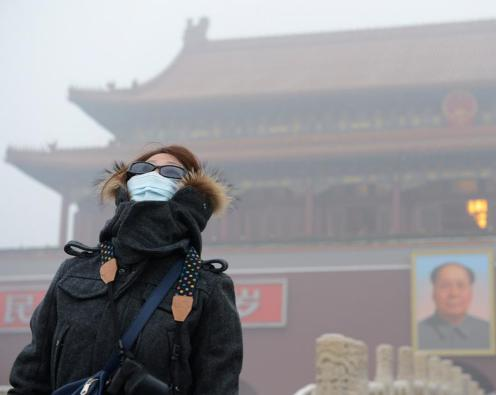person: (3, 141, 246, 395)
